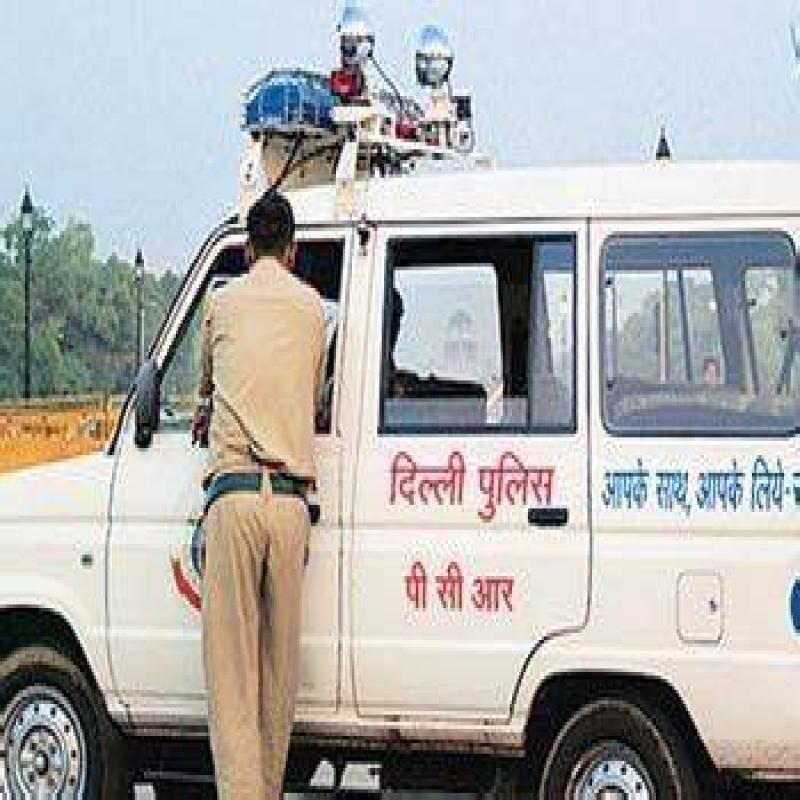AmbulanceSiren: (233, 64, 414, 190)
